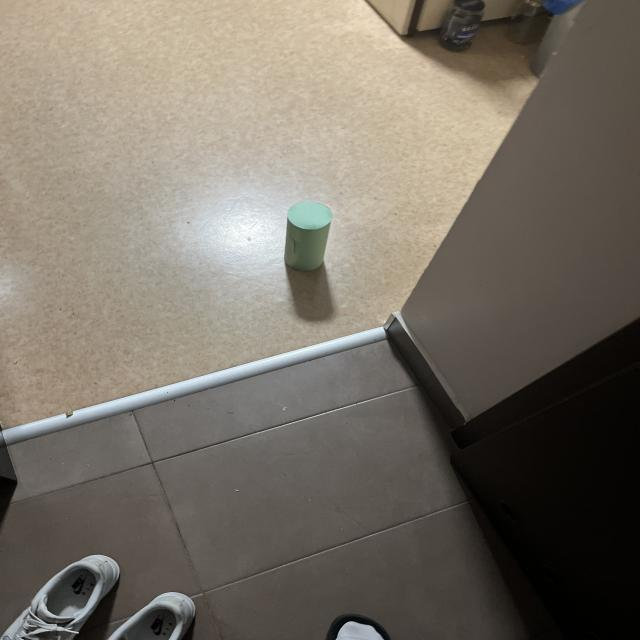meta: (284, 201, 332, 271)
